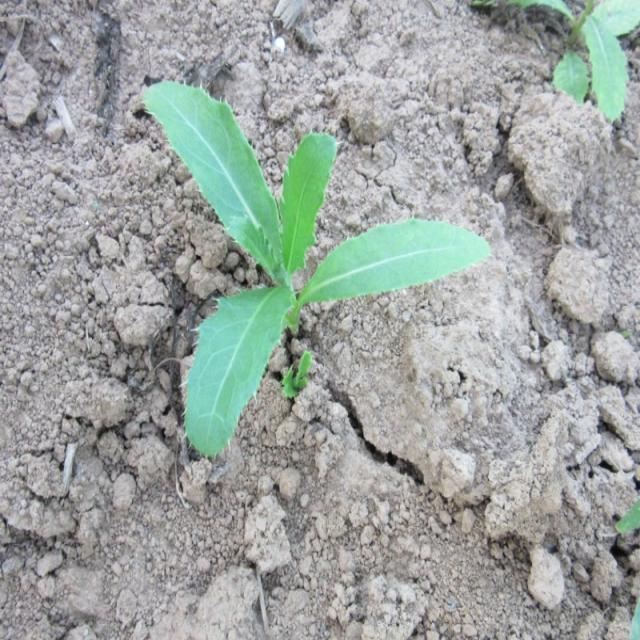cs: (139, 78, 492, 458)
